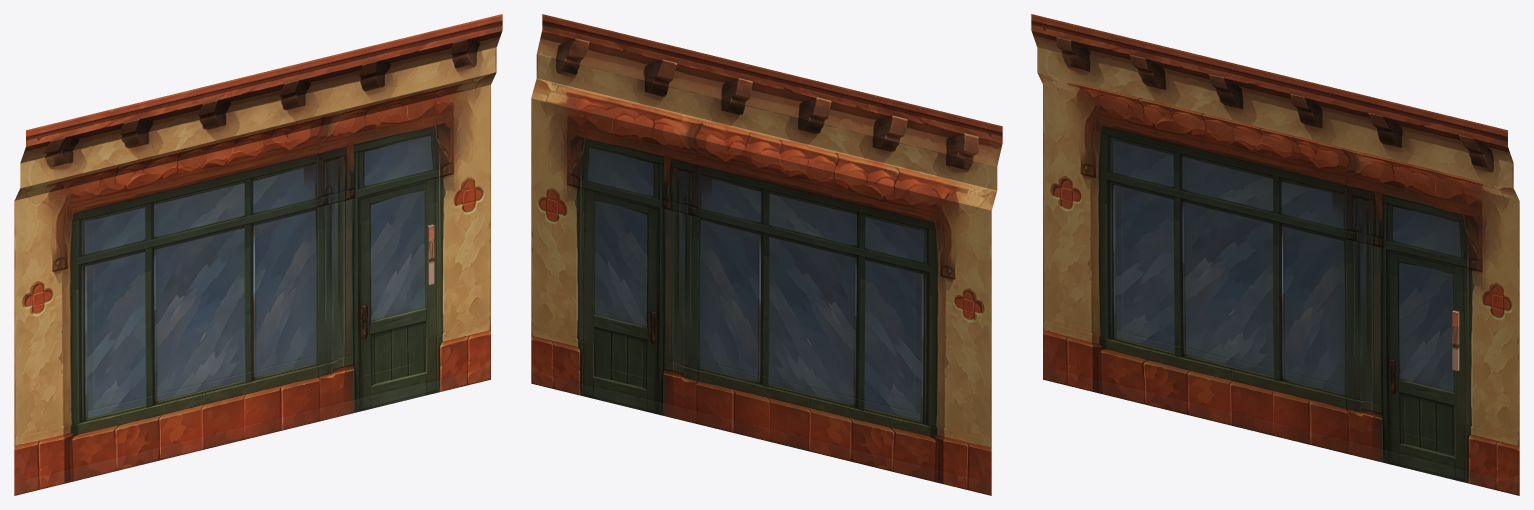
The model's file is MSN_G_Bay6A.fbx.
3 renders of one model, left to right at view 1: azimuth 30°, elevation 25°; view 2: azimuth 150°, elevation 25°; view 3: azimuth 330°, elevation 25°, orthographic. The views are drawn at different scales.
Parts seen in each view (by area): view 1: MSN_G_Bay6A; view 2: MSN_G_Bay6A; view 3: MSN_G_Bay6A.
Boxes of the visible parts, x1=… form: MSN_G_Bay6A: x1=14, y1=14, x2=502, y2=495; MSN_G_Bay6A: x1=531, y1=14, x2=1002, y2=495; MSN_G_Bay6A: x1=1031, y1=14, x2=1519, y2=495.
Bounding box in the file's own units: 6 × 0.25 × 4.5.
Materials: 1 (1 with a texture image).
